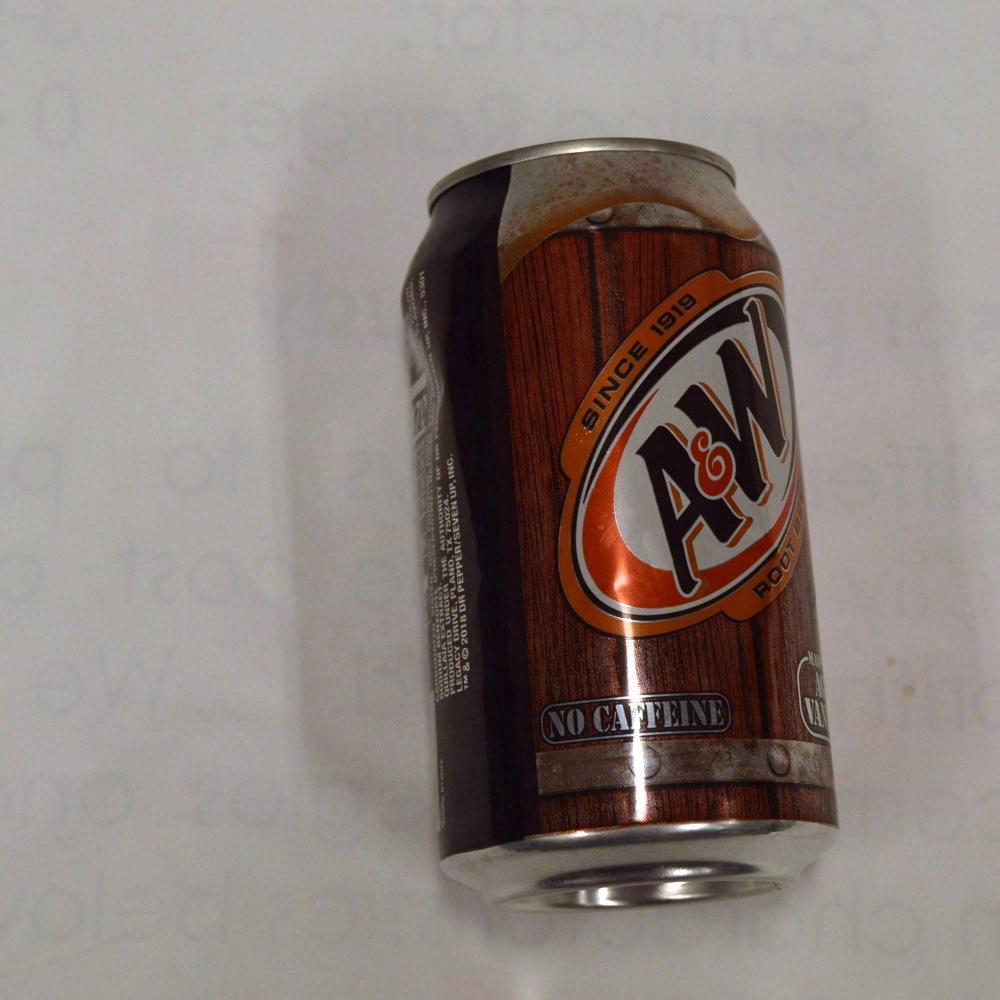Metal: (291, 50, 850, 920)
